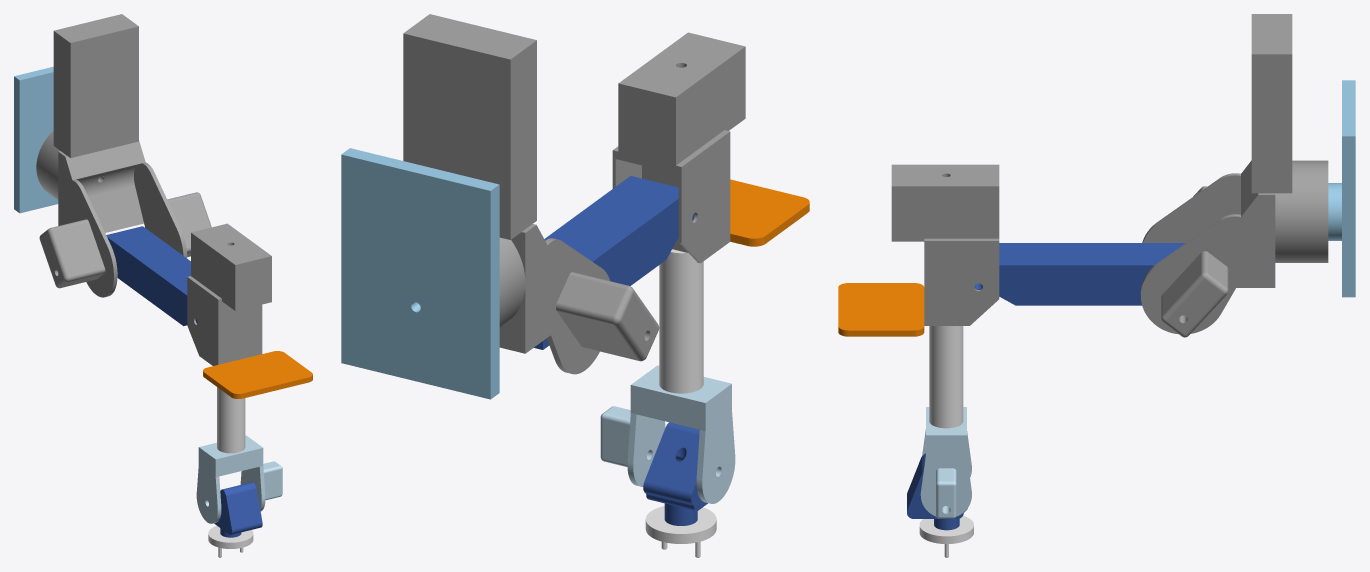
Rendered from phase_one robot.obj.
The picture shows the model from 3 angles, left to right: view 1: azimuth 30°, elevation 25°; view 2: azimuth 150°, elevation 25°; view 3: azimuth 270°, elevation 25°; orthographic projection. The views are drawn at different scales.
Parts seen in each view (by area): view 1: mesh50, mesh13, mesh123, mesh89, mesh95, mesh60, mesh112, mesh98, mesh47, mesh114, mesh23, mesh54 (+20 smaller); view 2: mesh14, mesh45, mesh60, mesh148, mesh95, mesh98, mesh110, mesh114, mesh47, mesh115, mesh89, mesh123 (+19 smaller); view 3: mesh78, mesh108, mesh88, mesh113, mesh46, mesh41, mesh123, mesh95, mesh148, mesh35, mesh177, mesh115 (+6 smaller).
Boxes of the visible parts, left/top/right/bottom form: mesh50: left=70, top=26, right=138, bottom=157; mesh13: left=19, top=72, right=58, bottom=213; mesh123: left=203, top=351, right=312, bottom=393; mesh89: left=107, top=237, right=197, bottom=325; mesh95: left=106, top=226, right=190, bottom=295; mesh60: left=58, top=152, right=113, bottom=297; mesh112: left=218, top=299, right=262, bottom=364; mesh98: left=187, top=277, right=218, bottom=365; mesh47: left=53, top=31, right=70, bottom=157; mesh114: left=191, top=233, right=235, bottom=310; mesh23: left=134, top=163, right=183, bottom=255; mesh54: left=53, top=222, right=104, bottom=276; mesh14: left=341, top=154, right=490, bottom=399; mesh45: left=403, top=33, right=510, bottom=239; mesh60: left=525, top=225, right=609, bottom=374; mesh148: left=659, top=252, right=703, bottom=393; mesh95: left=544, top=176, right=678, bottom=261; mesh98: left=681, top=132, right=730, bottom=263; mesh110: left=612, top=83, right=681, bottom=242; mesh114: left=676, top=46, right=745, bottom=165; mesh47: left=510, top=40, right=536, bottom=239; mesh115: left=618, top=32, right=745, bottom=97; mesh89: left=543, top=199, right=694, bottom=349; mesh123: left=730, top=179, right=809, bottom=238; mesh78: left=1141, top=195, right=1275, bottom=334; mesh108: left=924, top=241, right=999, bottom=325; mesh88: left=974, top=265, right=1153, bottom=305; mesh113: left=891, top=186, right=999, bottom=241; mesh46: left=1251, top=54, right=1292, bottom=193; mesh41: left=1275, top=160, right=1328, bottom=262; mesh123: left=838, top=283, right=924, bottom=330; mesh95: left=999, top=243, right=1185, bottom=265; mesh148: left=929, top=326, right=963, bottom=428; mesh35: left=1143, top=175, right=1240, bottom=242; mesh177: left=920, top=435, right=971, bottom=516; mesh115: left=891, top=164, right=999, bottom=186.
Bounding box in the file's own units: 0.125 × 0.3345 × 0.3033.
